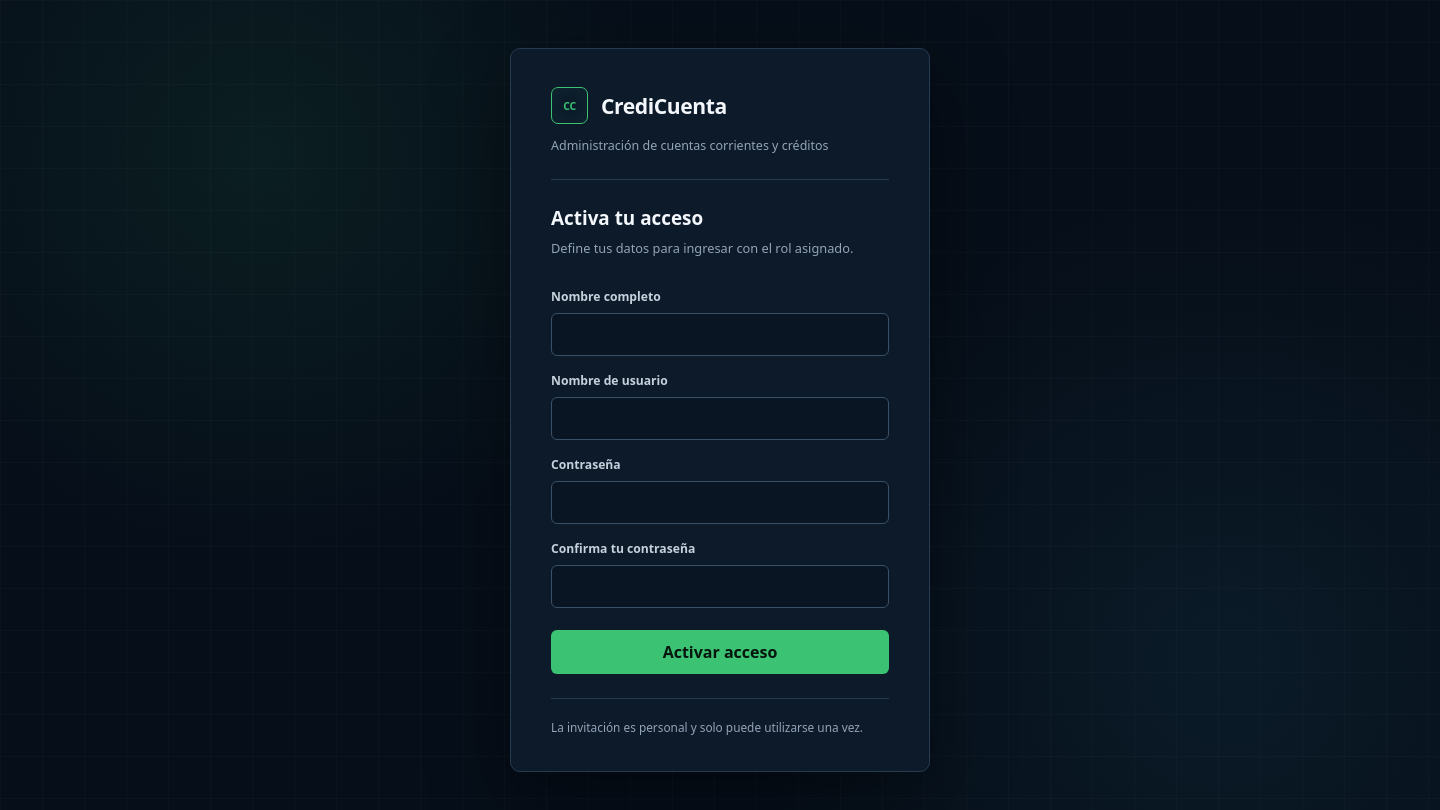
Test: App por roles › activates an invitation once and routes the assigned business administrator
The image size is (1440, 810).
Type "Ana Torres" into the field labelled "Nombre completo" at {"x": 720, "y": 335}, box [551, 313, 889, 356]
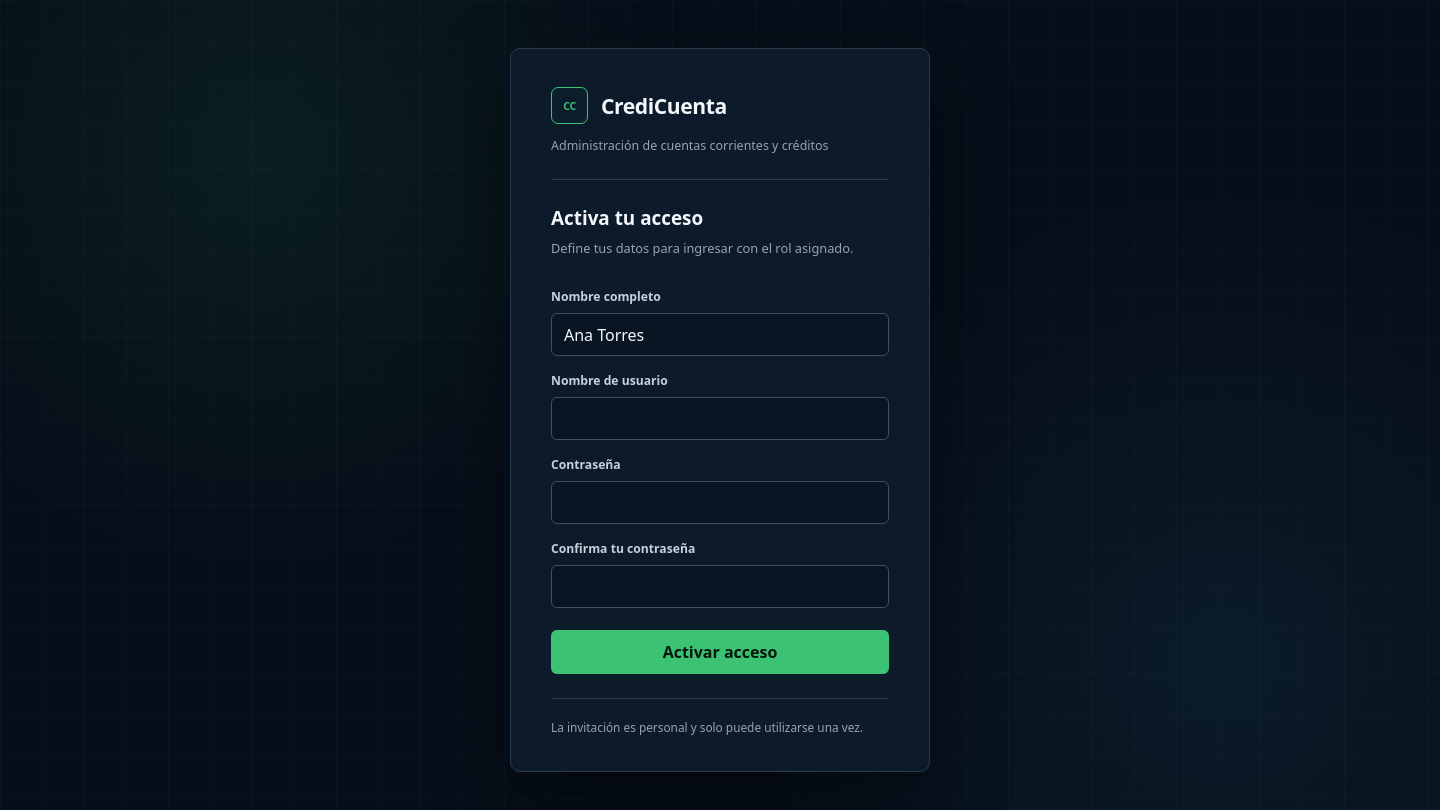
Type "ana.torres" into the field labelled "Nombre de usuario" at {"x": 720, "y": 419}, box [551, 397, 889, 440]
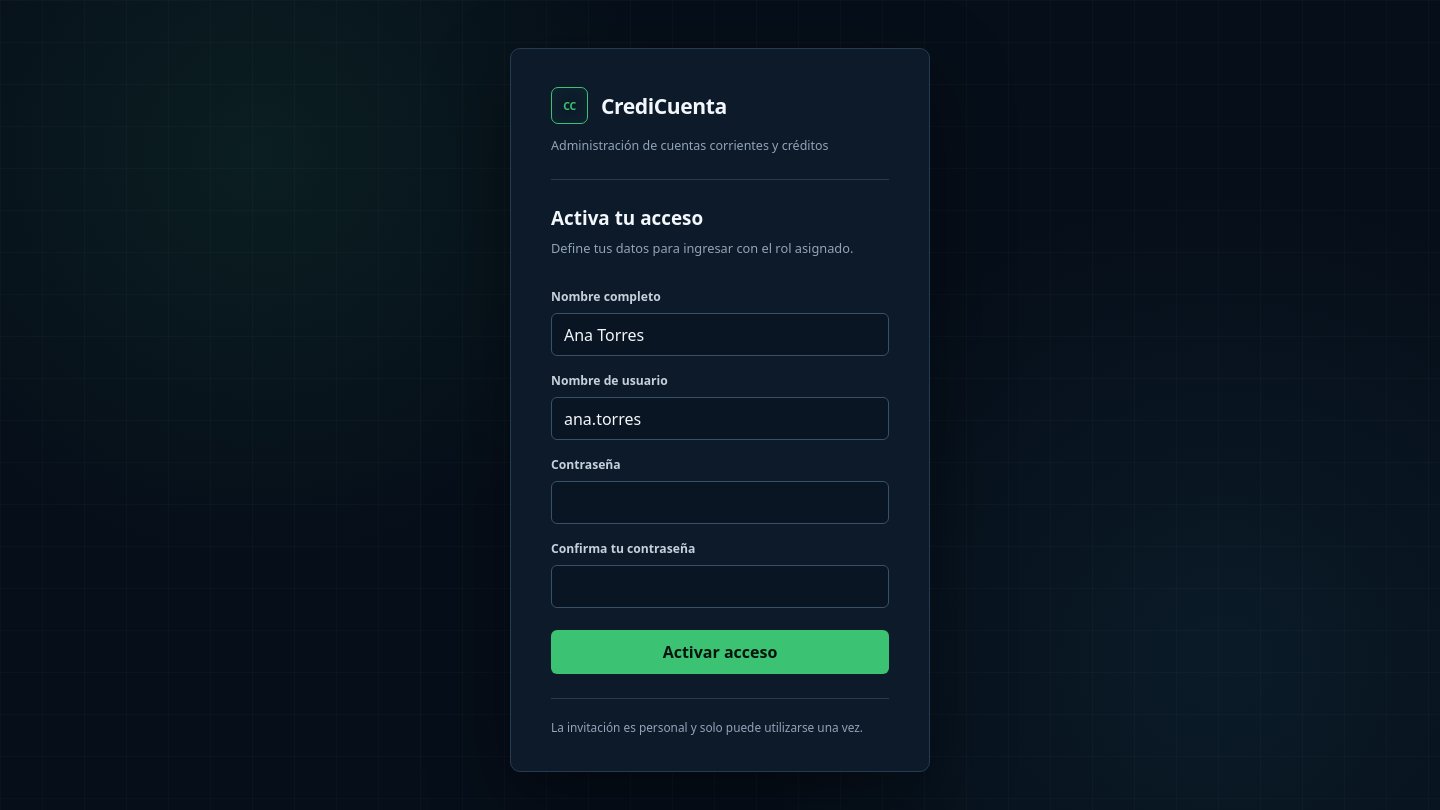
Type "ClaveSegura#2026" into the password field labelled "Contraseña" at {"x": 720, "y": 503}, box [551, 481, 889, 524]
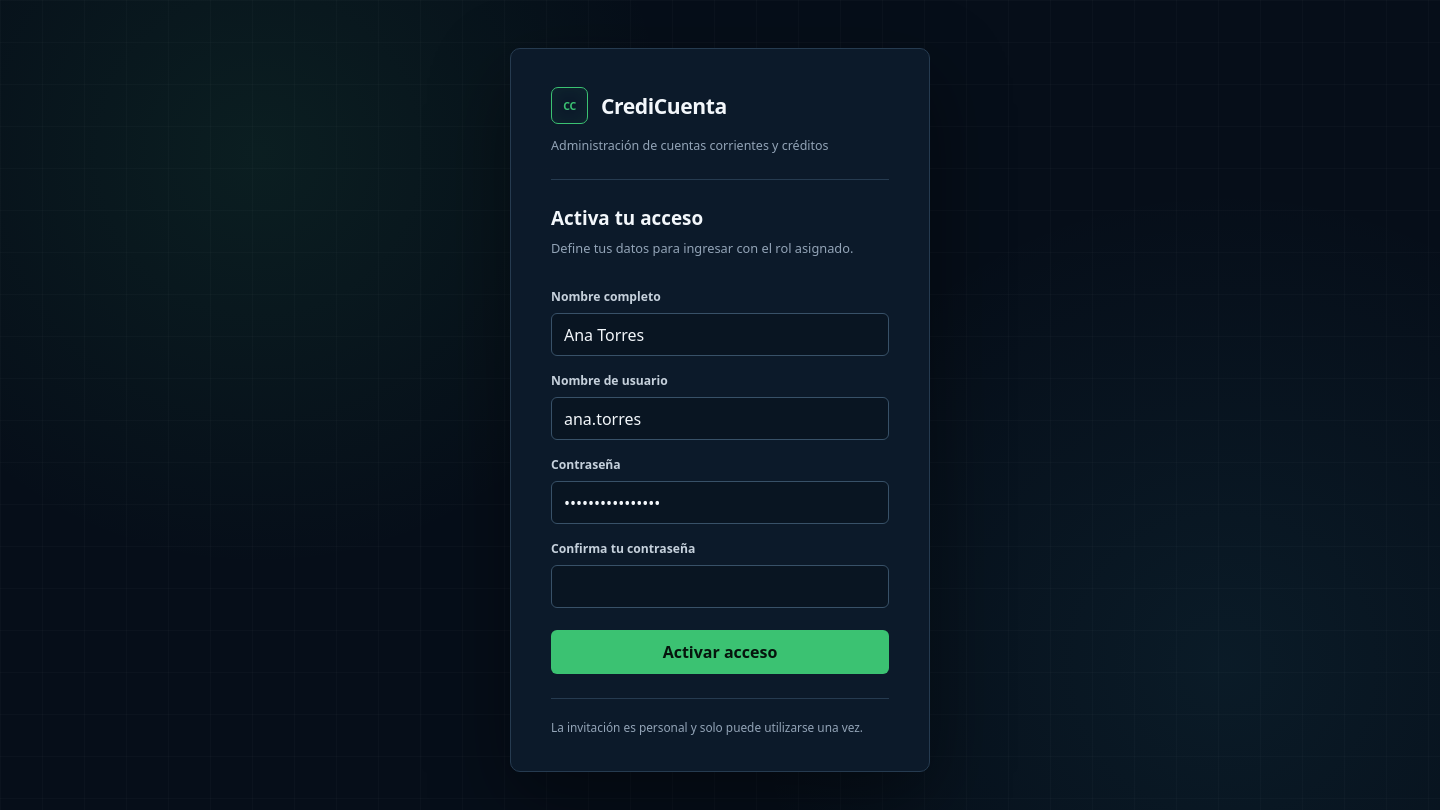
Type "ClaveSegura#2026" into the password field labelled "Confirma tu contraseña" at {"x": 720, "y": 587}, box [551, 565, 889, 608]
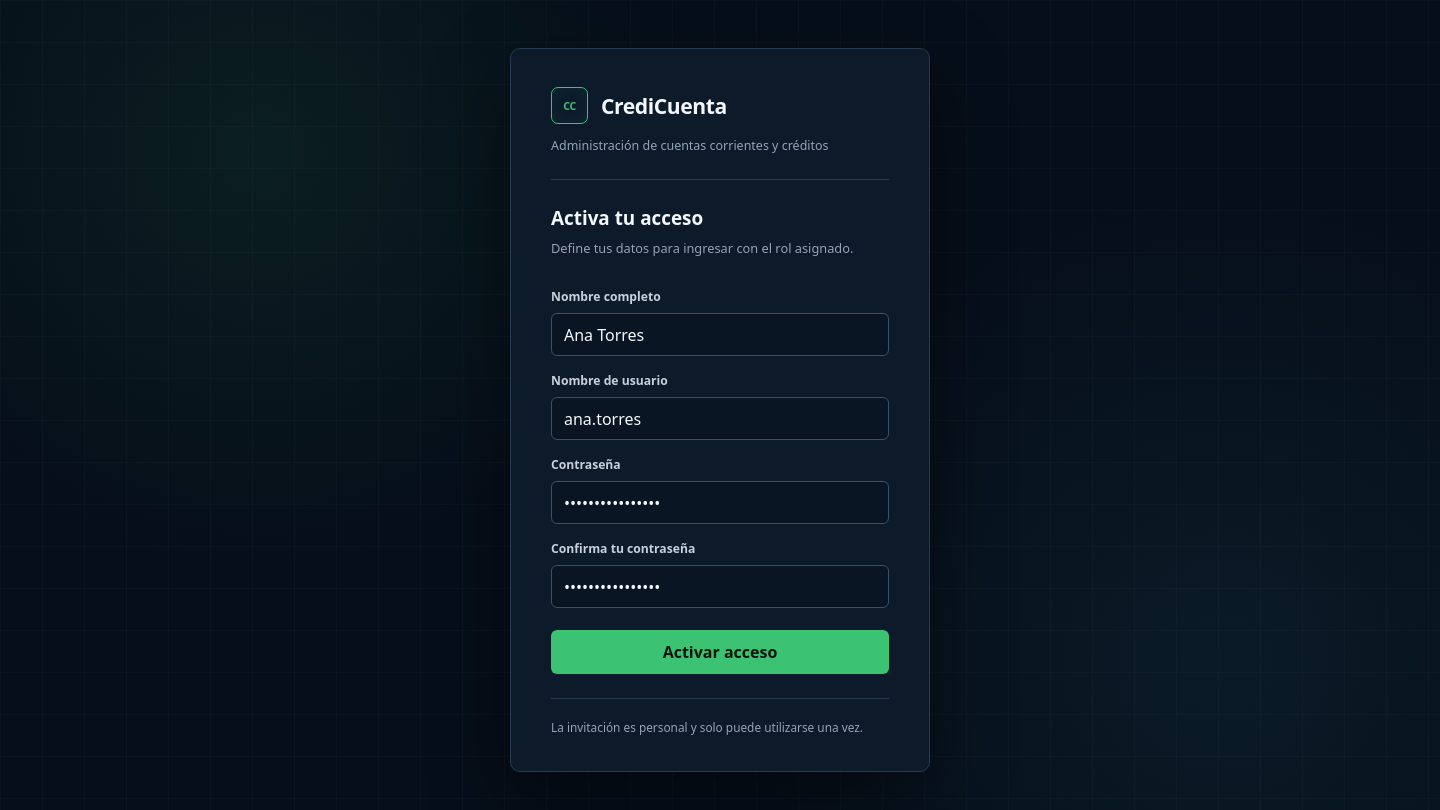
Click the button "Activar acceso" at {"x": 720, "y": 652}, box [551, 630, 889, 674]
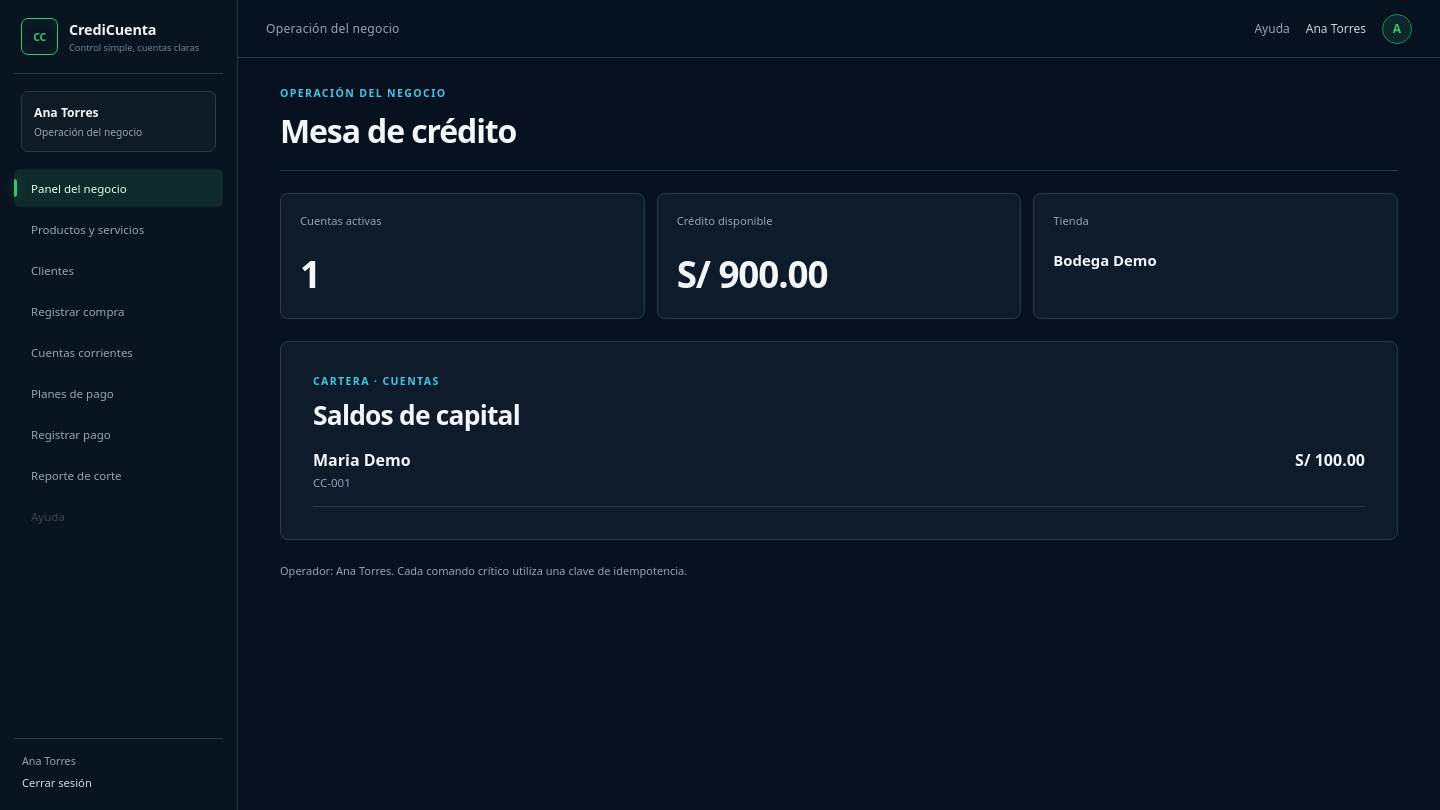
Result: the heading "Mesa de crédito" is shown at [280, 109, 516, 152]
